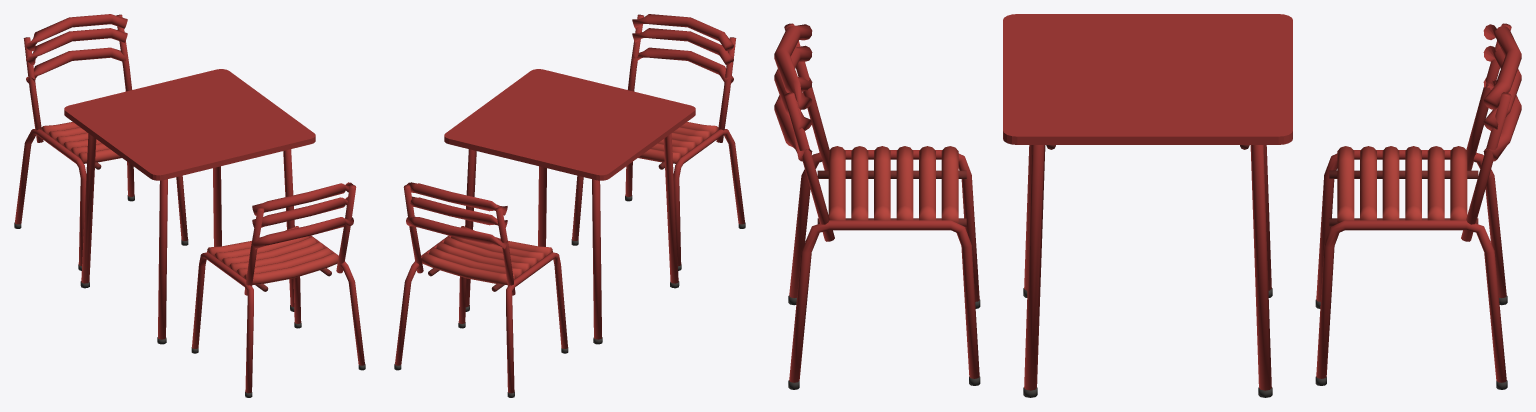
The model's file is terrace-set.glb.
3 renders of one model, left to right at view 1: azimuth 30°, elevation 25°; view 2: azimuth 150°, elevation 25°; view 3: azimuth 270°, elevation 25°, orthographic. The views are drawn at different scales.
Parts seen in each view (by area): view 1: Surface; view 2: Surface; view 3: Surface.
Part boxes in pixels (x1,y1,x2,y2): Surface: (14, 14, 365, 397); Surface: (394, 14, 745, 397); Surface: (774, 14, 1521, 397).
Size of the model in its own units: 0.72 by 0.811 by 1.85.
